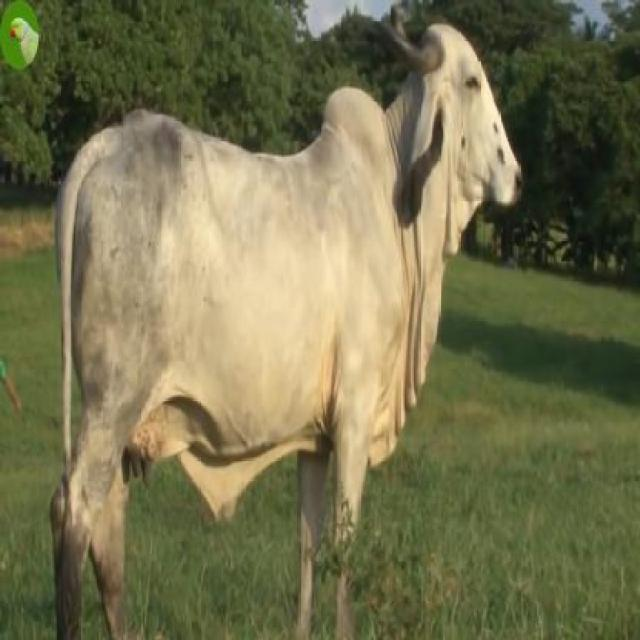Cow: (52, 4, 520, 638)
